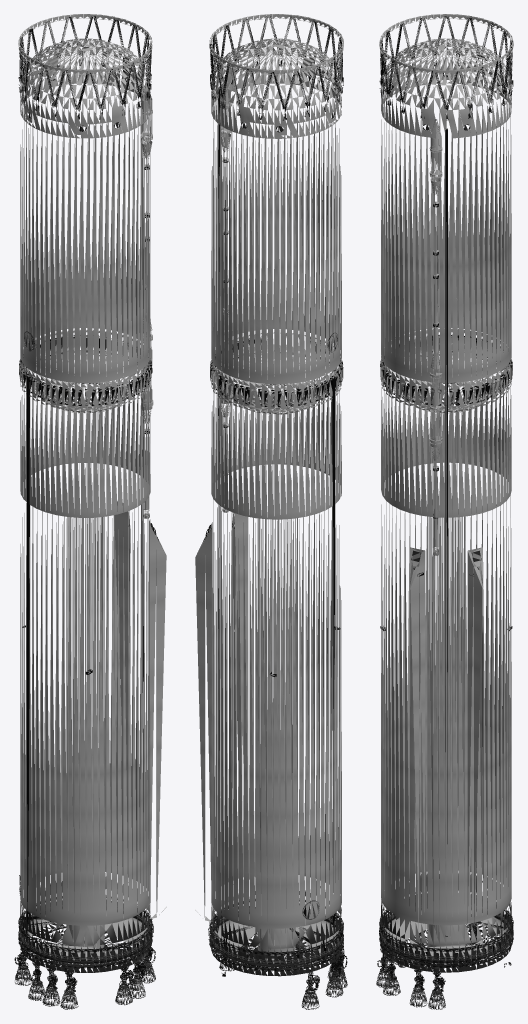
Rendered from ESP-Starship-Part-002.obj.
3 renders of one model, left to right at view 1: azimuth 30°, elevation 25°; view 2: azimuth 150°, elevation 25°; view 3: azimuth 270°, elevation 25°, orthographic.
Parts seen in each view (by area): view 1: Booster__Superheavy_Block_3_V4_Cylinder.025; view 2: Booster__Superheavy_Block_3_V4_Cylinder.025; view 3: Booster__Superheavy_Block_3_V4_Cylinder.025.
Boxes of the visible parts, x1,y1,x2,y2 form: Booster__Superheavy_Block_3_V4_Cylinder.025: [14, 14, 166, 1009]; Booster__Superheavy_Block_3_V4_Cylinder.025: [195, 14, 347, 1009]; Booster__Superheavy_Block_3_V4_Cylinder.025: [376, 14, 513, 1009].
Bounding box in the file's own units: 9.87 × 71.52 × 9.5.
Materials: 1 (1 with a texture image).
